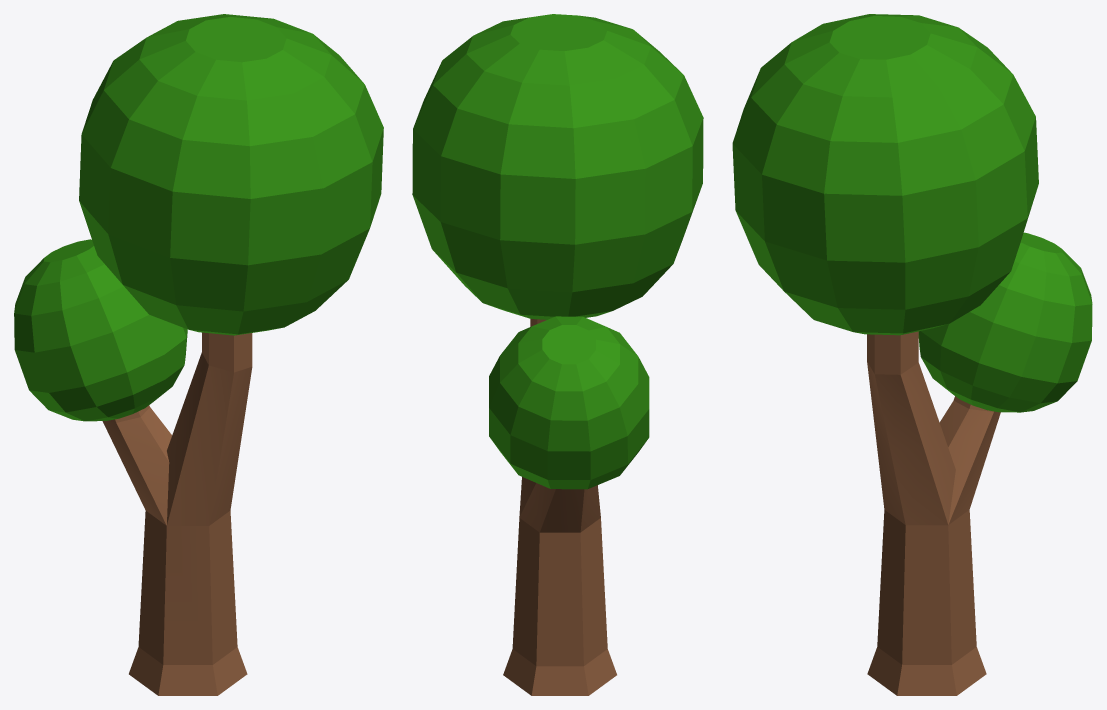
The model's file is Prop_Decorative_Tree_Elm_6.obj.
3 views of the same model, side by side, from view 1: azimuth 30°, elevation 25°; view 2: azimuth 150°, elevation 25°; view 3: azimuth 270°, elevation 25° (orthographic). The views are drawn at different scales.
Visible parts, largest first — view 1: Leaves, Trunk, object1; view 2: Leaves, object1, Trunk; view 3: Leaves, Trunk, object1.
Boxes of the visible parts, x1,y1,x2,y2 form: Leaves: (79,14,383,335); Trunk: (102,332,252,695); object1: (14,239,187,421); Leaves: (412,14,703,319); object1: (489,316,649,489); Trunk: (503,319,616,695); Leaves: (732,14,1038,335); Trunk: (867,331,1000,695); object1: (918,232,1092,412).
Size of the model in its own units: 2.51 by 5.59 by 2.81.
